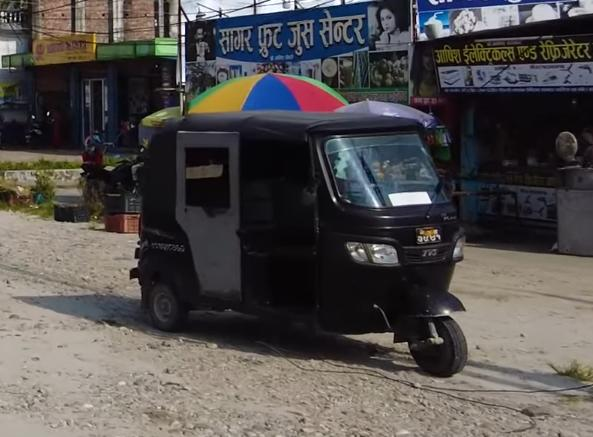auto_rickshaw: (137, 102, 476, 386)
